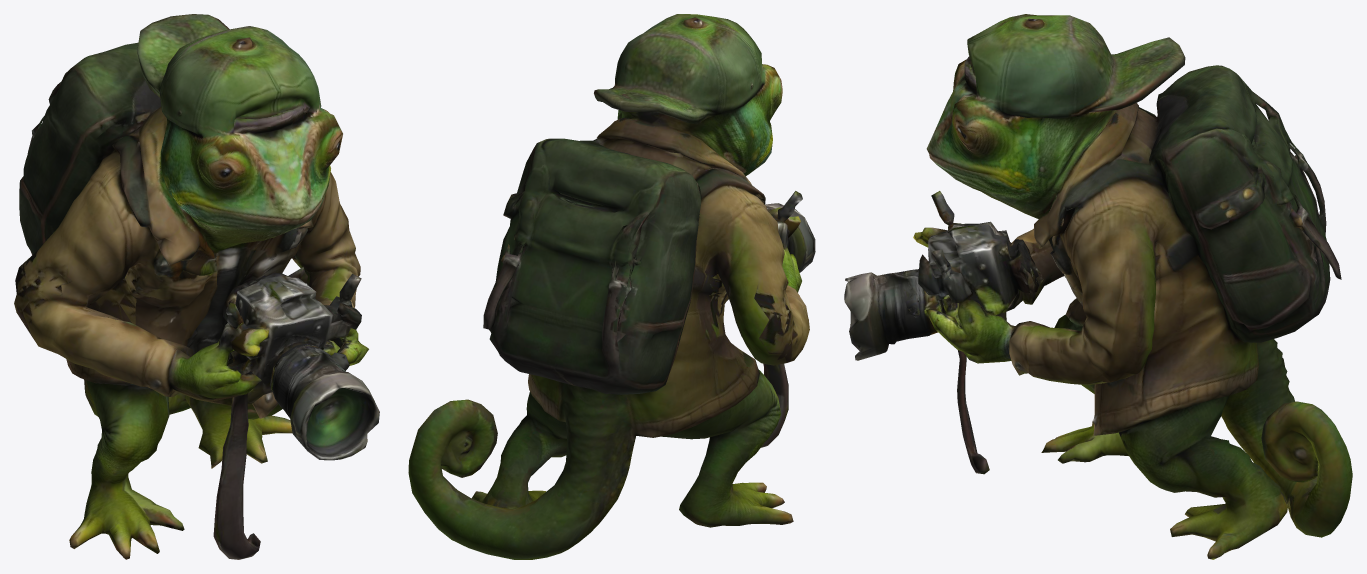
File: camaleonFotografo.glb
3 views of the same model, side by side, from view 1: azimuth 30°, elevation 25°; view 2: azimuth 150°, elevation 25°; view 3: azimuth 270°, elevation 25° (orthographic). The views are drawn at different scales.
Visible parts, largest first — view 1: Mesh1; view 2: Mesh1; view 3: Mesh1.
Part boxes in pixels (left/top/right/bottom): Mesh1: left=14, top=14, right=379, bottom=559; Mesh1: left=408, top=14, right=815, bottom=559; Mesh1: left=844, top=14, right=1352, bottom=559.
Size of the model in its own units: 1.34 by 1.99 by 1.94.
Materials: 1 (1 with a texture image).
